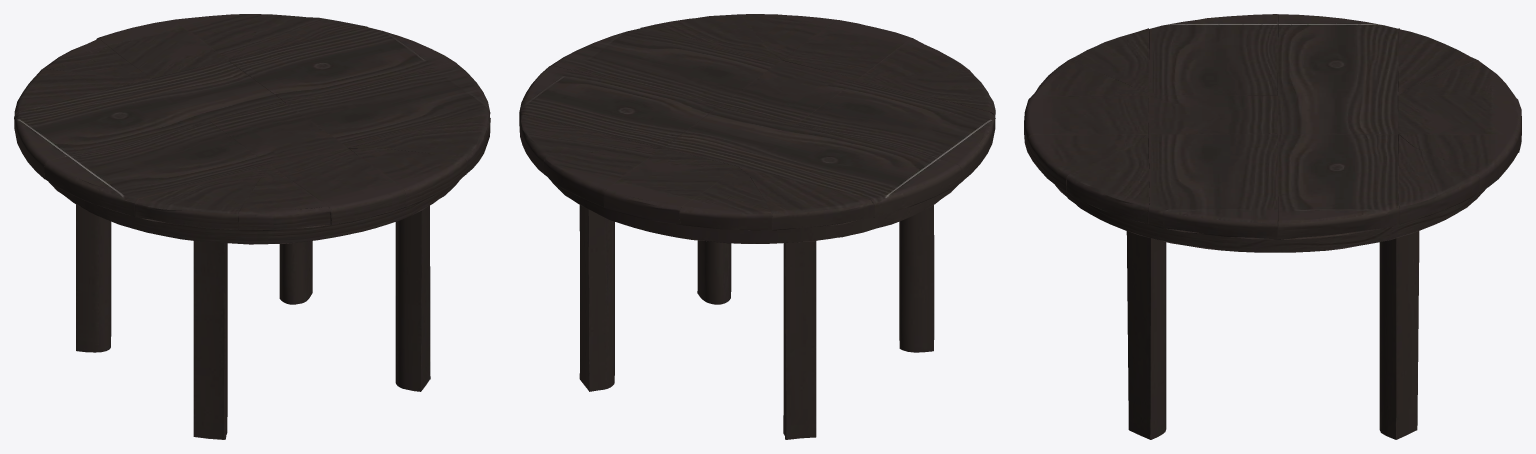
File: round_table.glb
3 views of the same model, side by side, from view 1: azimuth 30°, elevation 25°; view 2: azimuth 150°, elevation 25°; view 3: azimuth 270°, elevation 25° (orthographic). The views are drawn at different scales.
Bounding box in the file's own units: 1.3 × 0.7599 × 1.3.
1 material, 1 textured.
